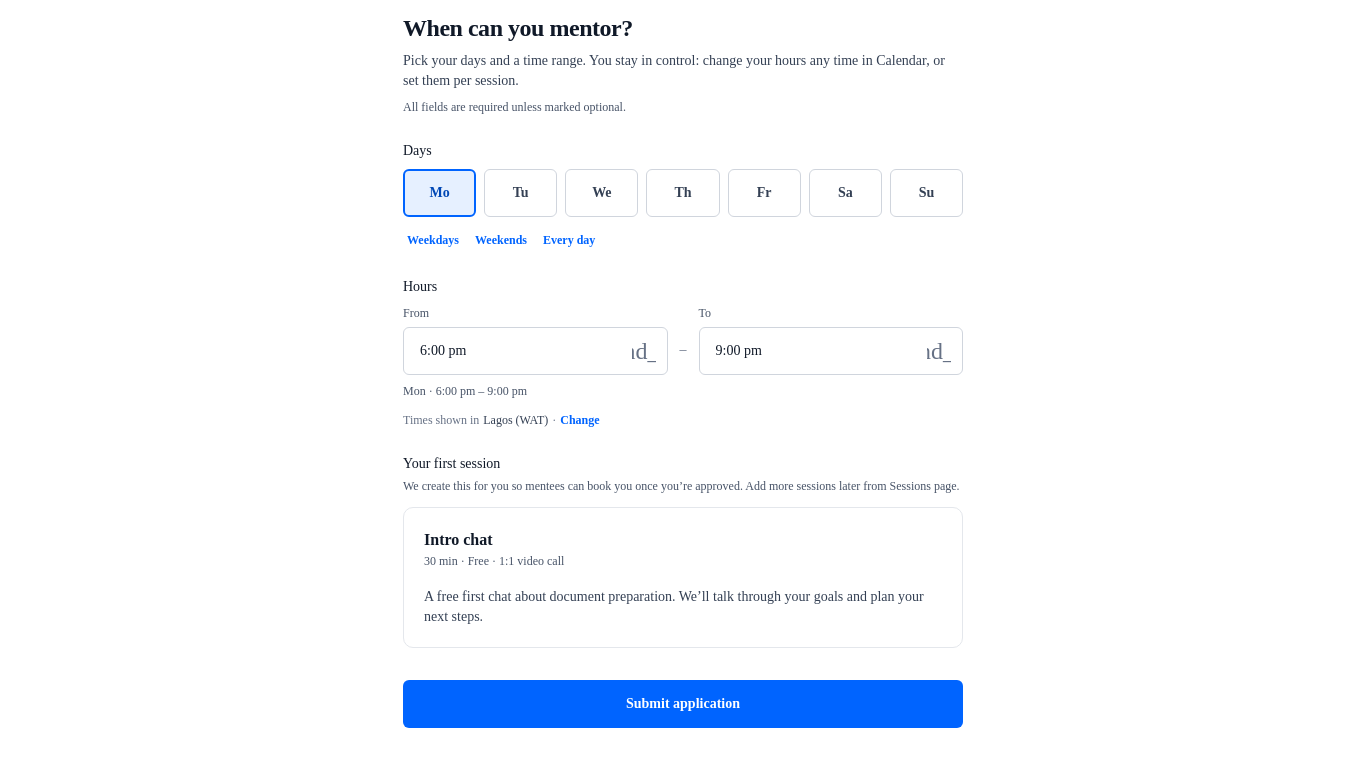
it: MentorOnboardingScreen › an incomplete submit sends them to the step it names, with that field’s error
(page scrolled)
Click the button "Submit application" at (683, 704), box 403,680 -> 963,728
(page scrolled)
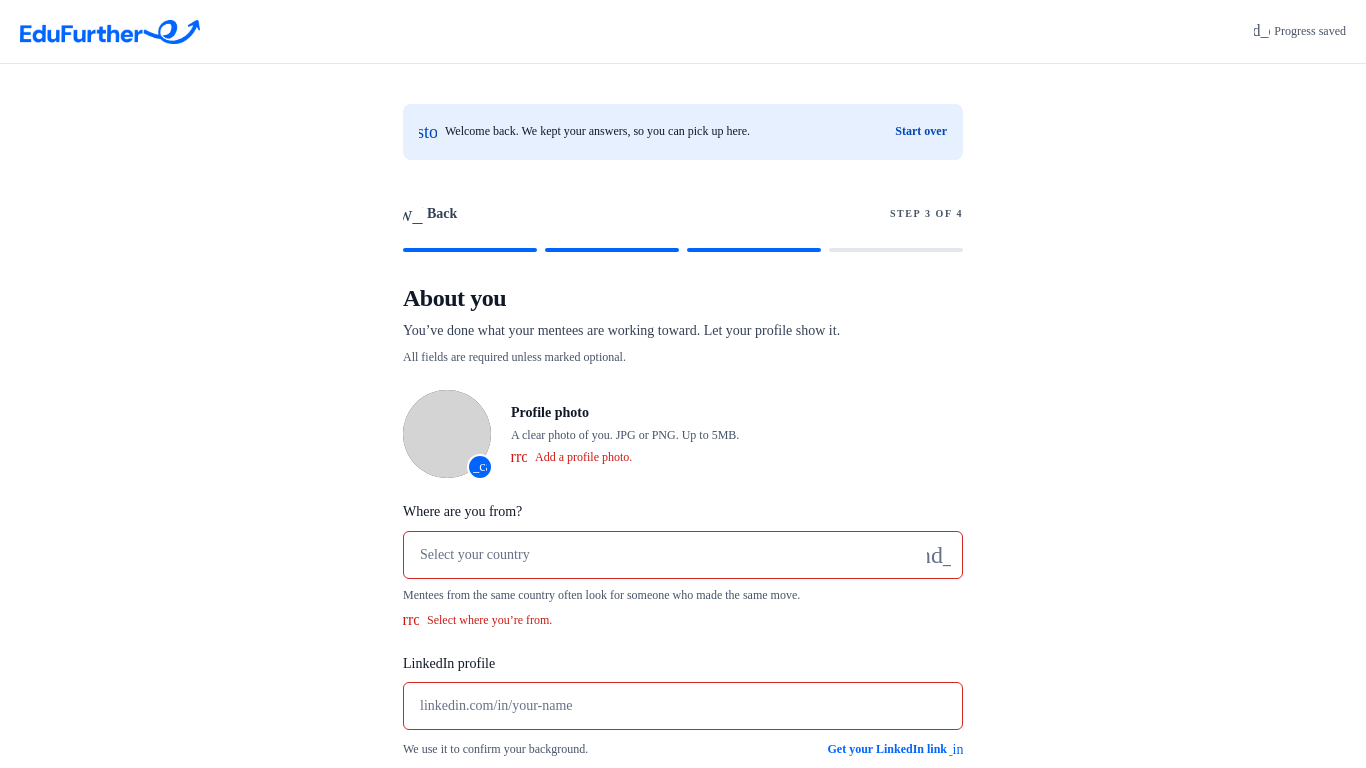
Expected: the heading "About you" is shown, 403,285 -> 506,311
